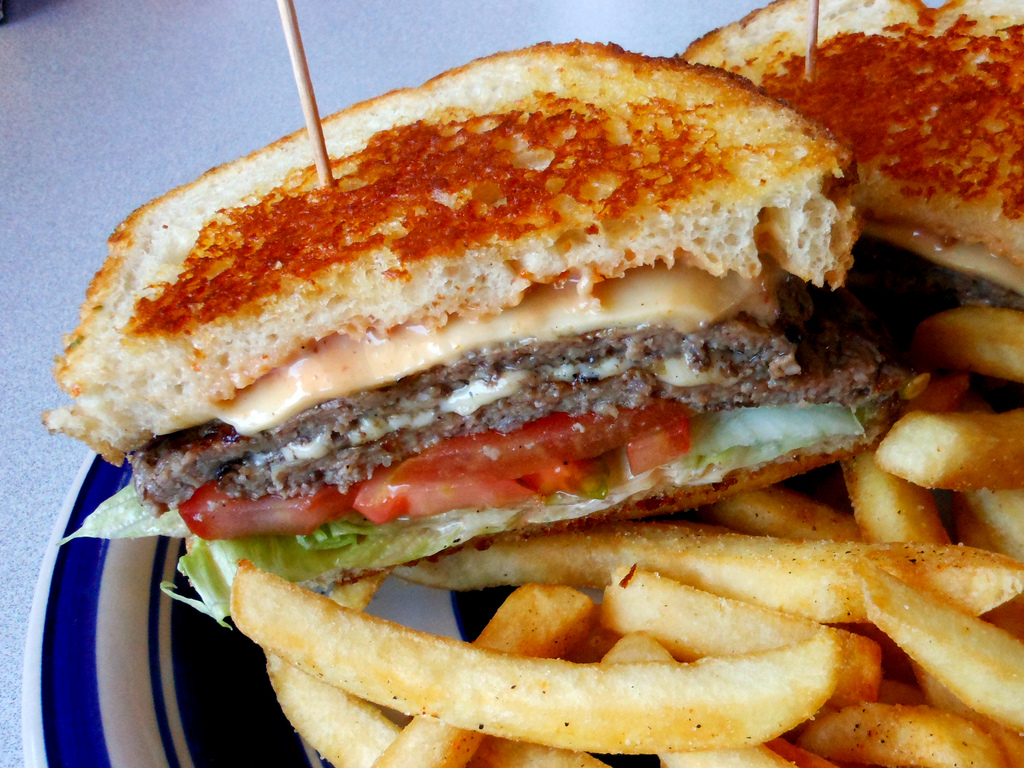chopped lettuce: (184, 509, 530, 576)
slice of bread: (79, 21, 849, 363), (683, 1, 1024, 235)
